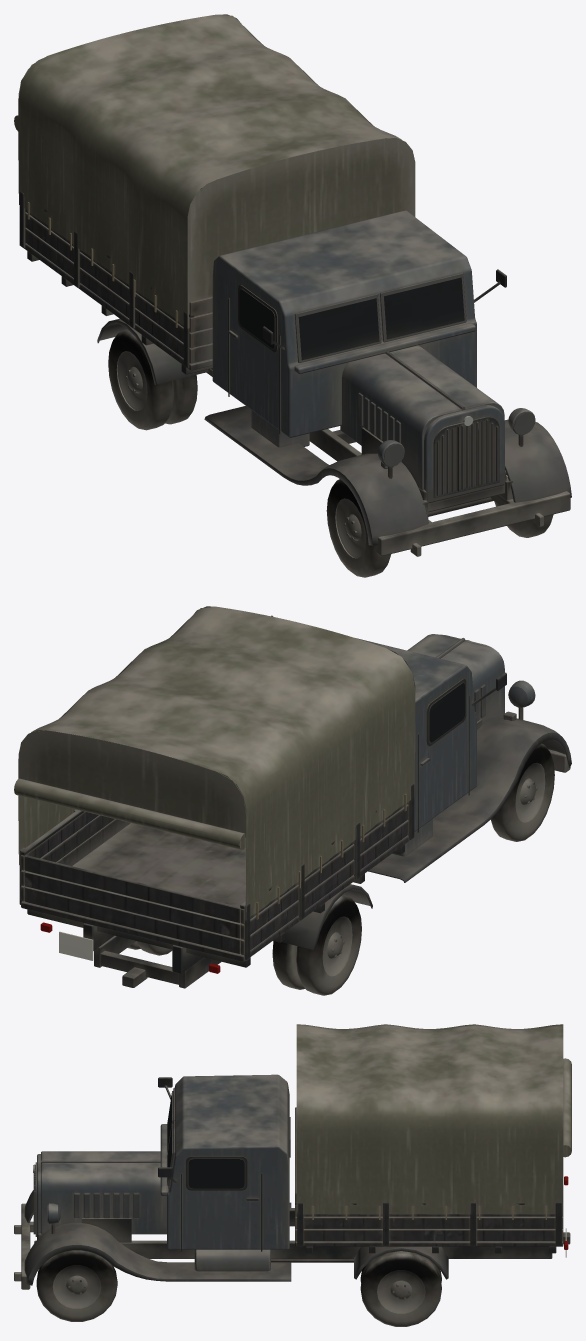
The model's file is truck_grey.glb.
The picture shows the model from 3 angles, top to bottom: view 1: azimuth 30°, elevation 25°; view 2: azimuth 150°, elevation 25°; view 3: azimuth 270°, elevation 25°; orthographic projection. The views are drawn at different scales.
Visible parts, largest first — view 1: truck_body, wheel_RL, wheel_FL; view 2: truck_body, wheel_RL, wheel_FL; view 3: truck_body, wheel_RR, wheel_FR.
Part boxes in pixels (x1=…): truck_body: x1=14, y1=14, x2=571, y2=556; wheel_RL: x1=108, y1=329, x2=197, y2=430; wheel_FL: x1=326, y1=479, x2=391, y2=577; truck_body: x1=14, y1=606, x2=571, y2=988; wheel_RL: x1=272, y1=894, x2=361, y2=995; wheel_FL: x1=490, y1=743, x2=554, y2=841; truck_body: x1=14, y1=1024, x2=571, y2=1289; wheel_RR: x1=360, y1=1251, x2=441, y2=1326; wheel_FR: x1=36, y1=1250, x2=117, y2=1321.
Size of the model in its own units: 2.39 by 2.86 by 6.19.
2 materials, 2 textured.
